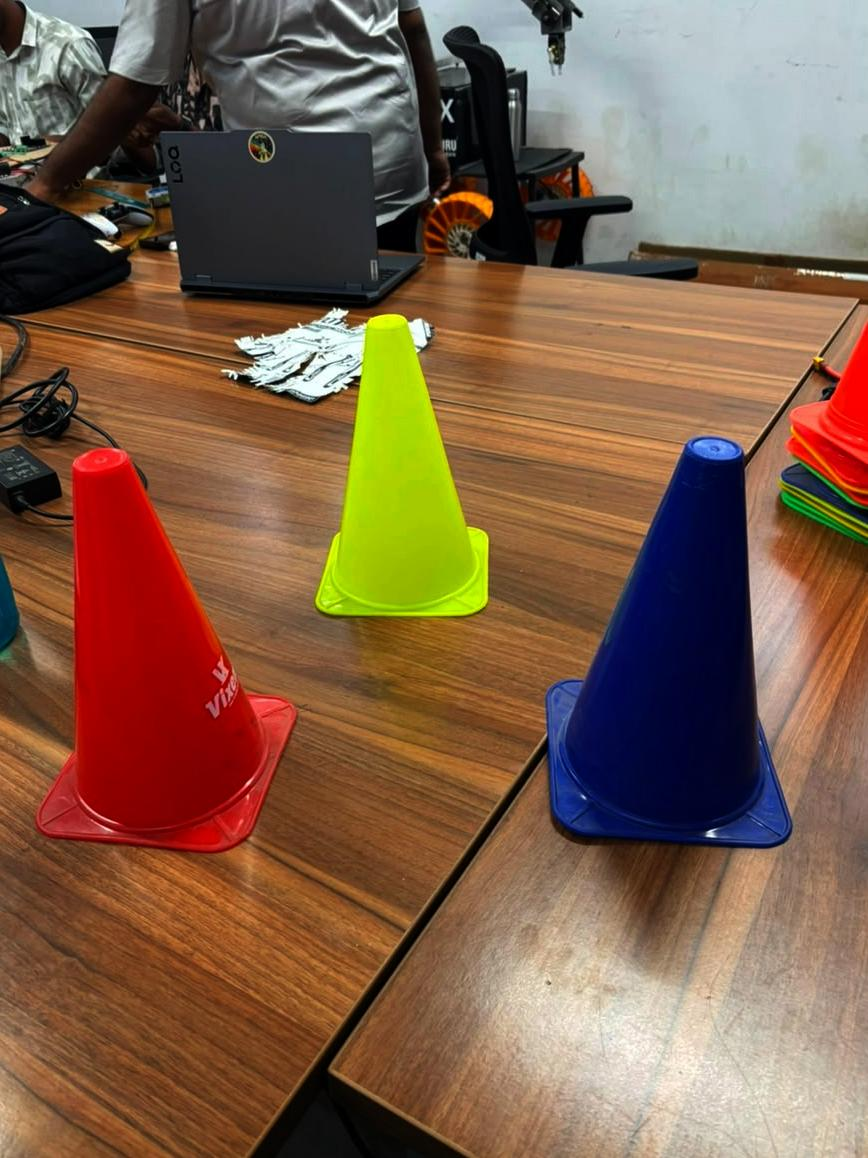0 cone: (38, 450, 295, 852), (545, 437, 790, 847), (315, 315, 488, 617), (317, 317, 487, 617)
